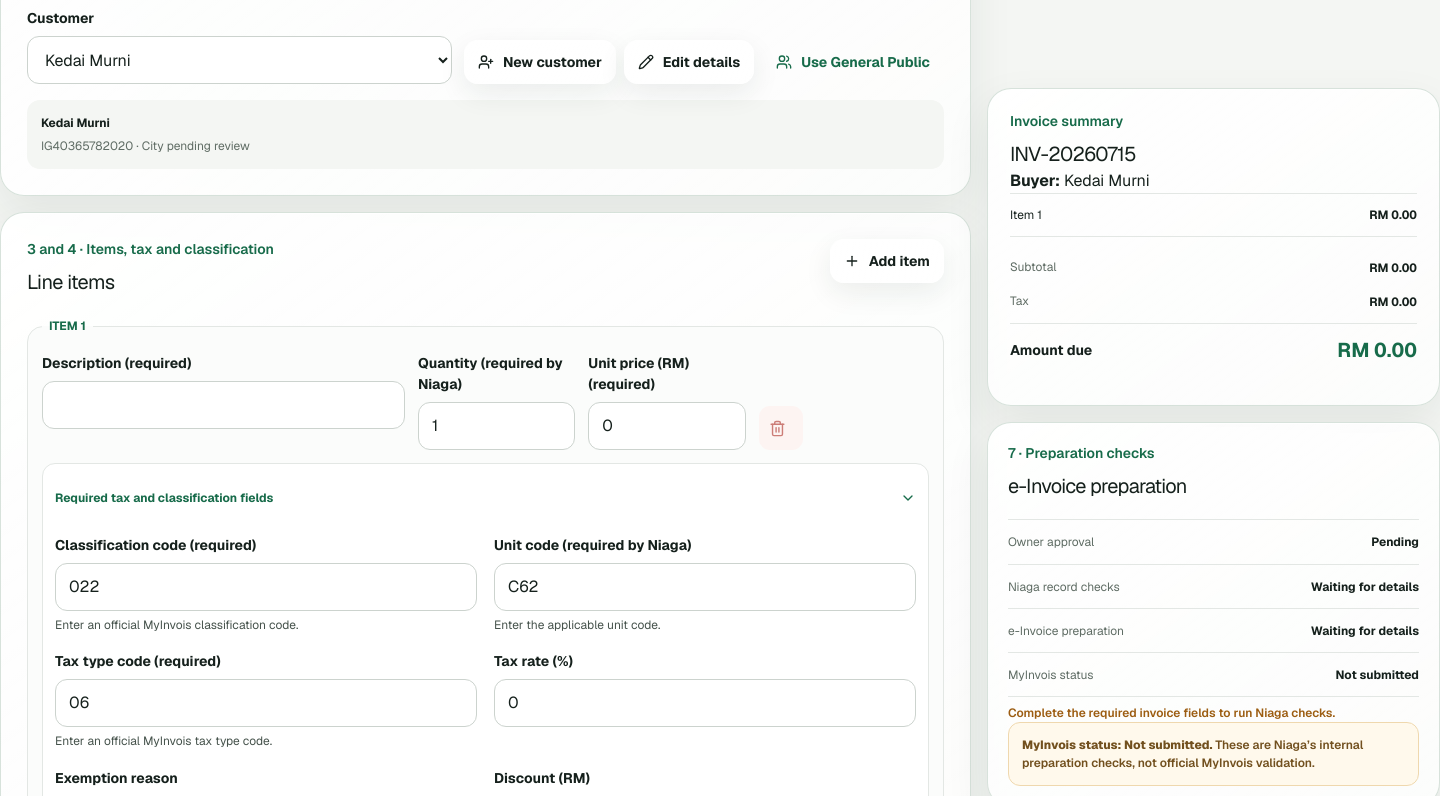
Test: Session 7 invoice builder › separates internal preparation checks from official MyInvois status
This screenshot has width=1440, height=796.
(page scrolled)
Type "Consulting service" into the field labelled "Description (required)" at (224, 405), box [42, 381, 405, 429]
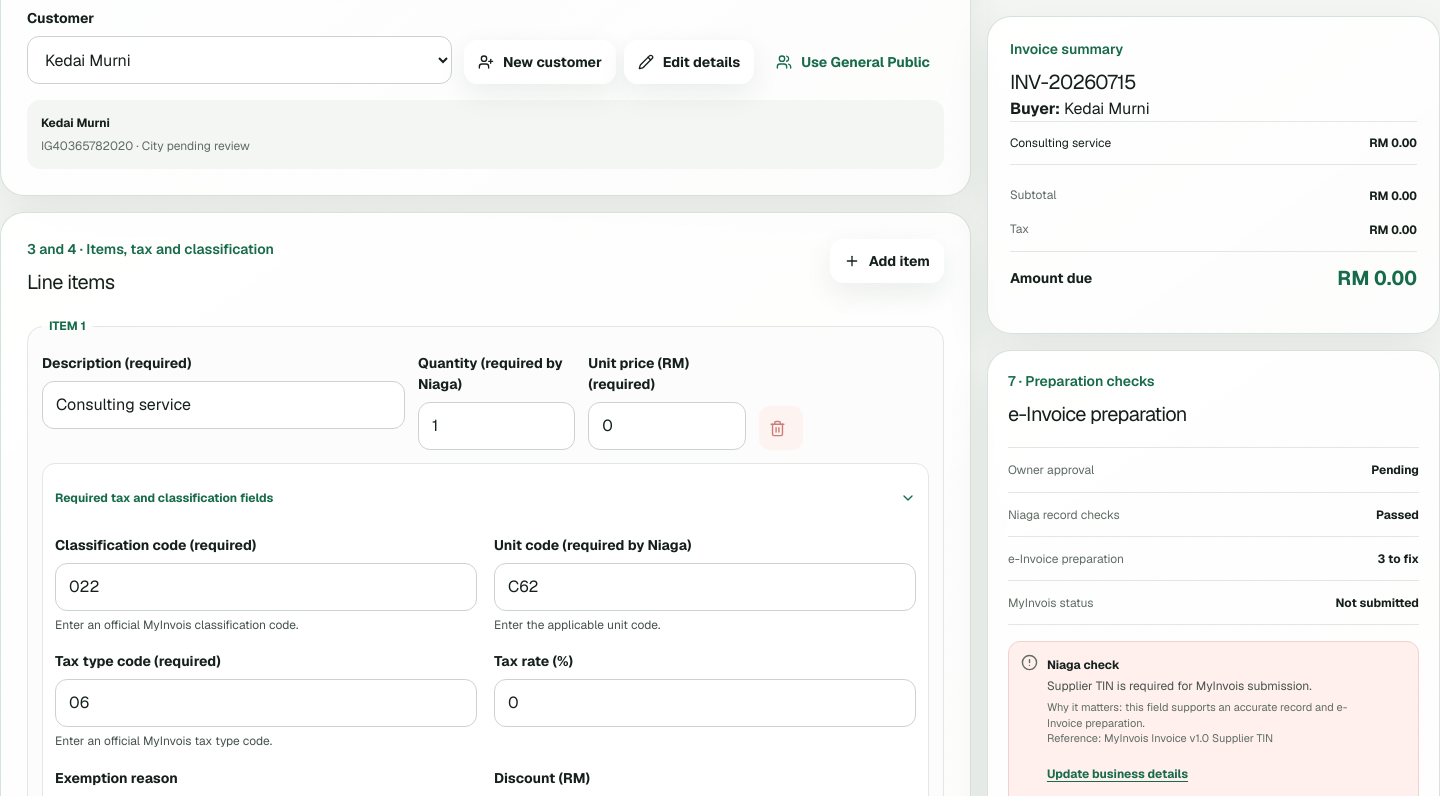
Expected: the text "MyInvois status" is shown, [1008, 593, 1094, 611]
Now the text "Niaga check" is shown, box [1047, 657, 1120, 673]
Now the text "Reference: MyInvois Invoice v1.0 Supplier TIN" is shown, box [1047, 731, 1273, 745]
